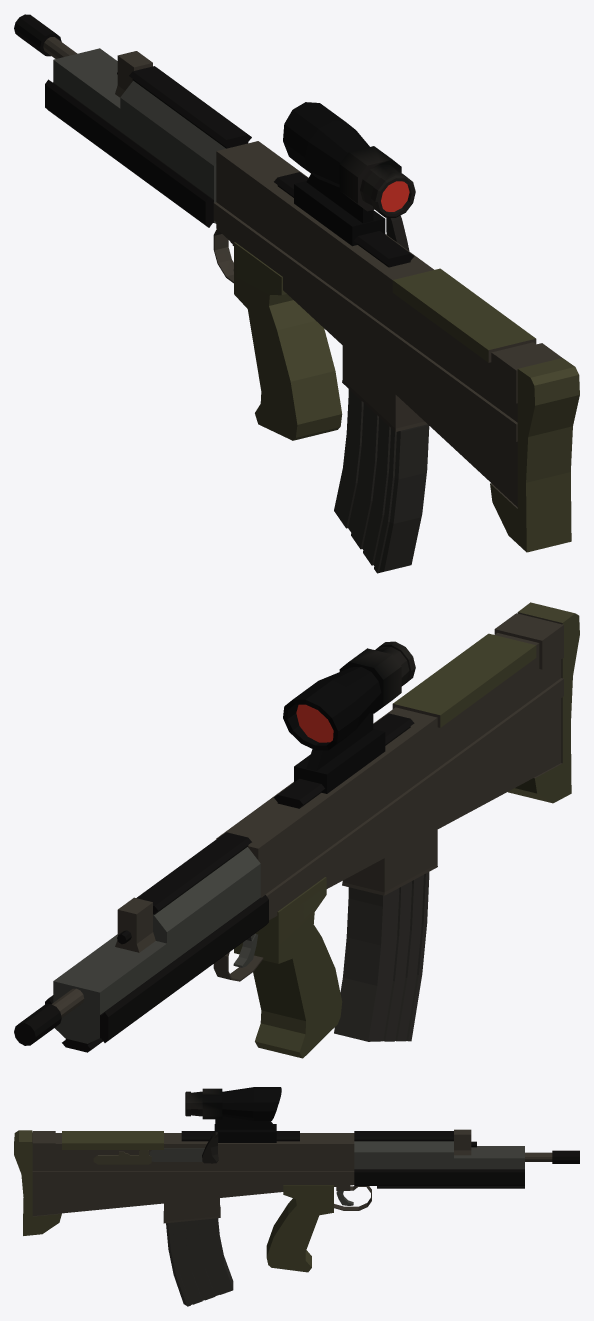
File: weapon_l85a2.glb
The picture shows the model from 3 angles, top to bottom: view 1: azimuth 30°, elevation 25°; view 2: azimuth 150°, elevation 25°; view 3: azimuth 270°, elevation 25°; orthographic projection. The views are drawn at different scales.
Parts seen in each view (by area): view 1: body, mag; view 2: body, mag, body_glow; view 3: body, mag.
Boxes of the visible parts, <box> form: body: <box>14,14,579,552</box>; mag: <box>334,389,429,573</box>; body: <box>14,602,579,1058</box>; mag: <box>334,872,429,1041</box>; body_glow: <box>296,704,333,742</box>; body: <box>14,1087,579,1272</box>; mag: <box>166,1218,233,1306</box>.
Bounding box in the file's own units: 0.0625 × 0.3786 × 0.9088.
